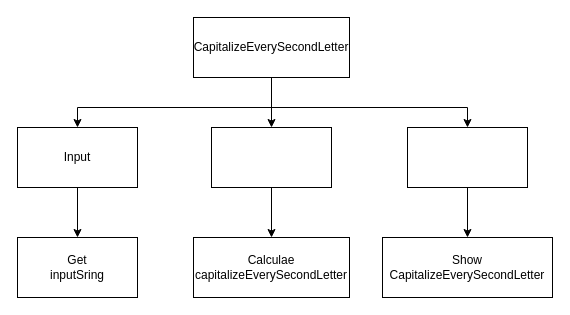
Image size: 570x315. Some labels were removed from this diagram. Each missing label, with the centre of its shape:
"Output" goes at pixel 467 157.
"Process" goes at pixel 271 157.
